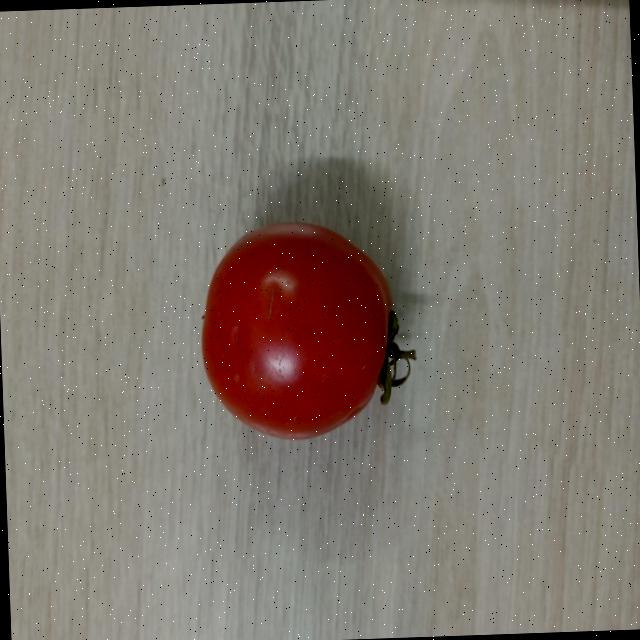Tomato: (192, 216, 414, 445)
